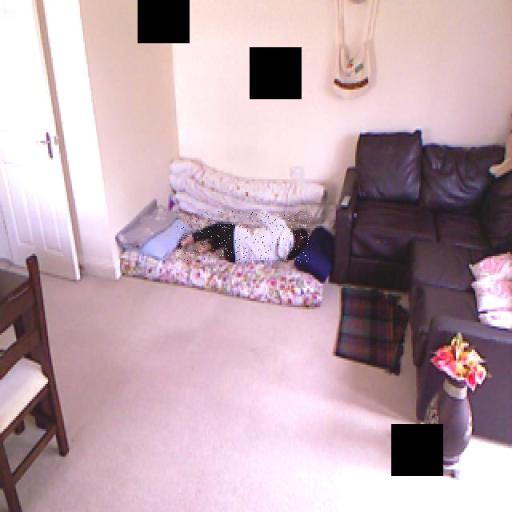Fall: (176, 212, 310, 263)
